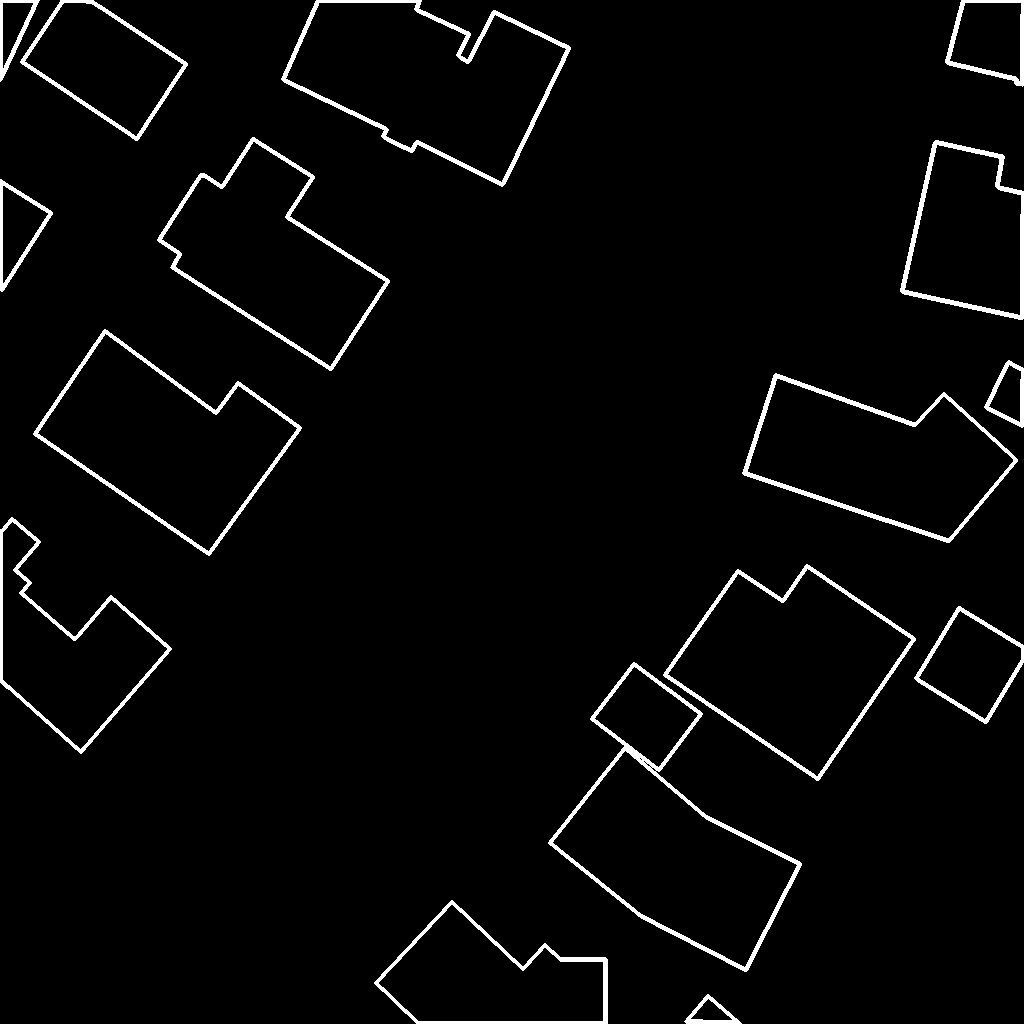building: (35, 331, 301, 555), (550, 748, 801, 971), (665, 566, 915, 780), (283, 0, 570, 186), (159, 139, 389, 370), (744, 375, 1017, 542), (0, 519, 171, 753), (376, 902, 607, 1024), (22, 0, 187, 140), (902, 142, 1024, 319), (916, 608, 1024, 723), (592, 664, 702, 771), (947, 0, 1024, 85), (0, 181, 52, 291), (0, 0, 39, 82), (986, 362, 1024, 427), (686, 996, 741, 1024)
